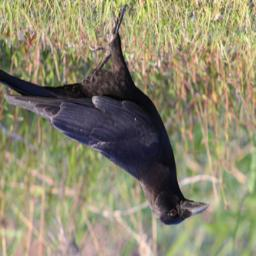Crow: (0, 0, 211, 229)
